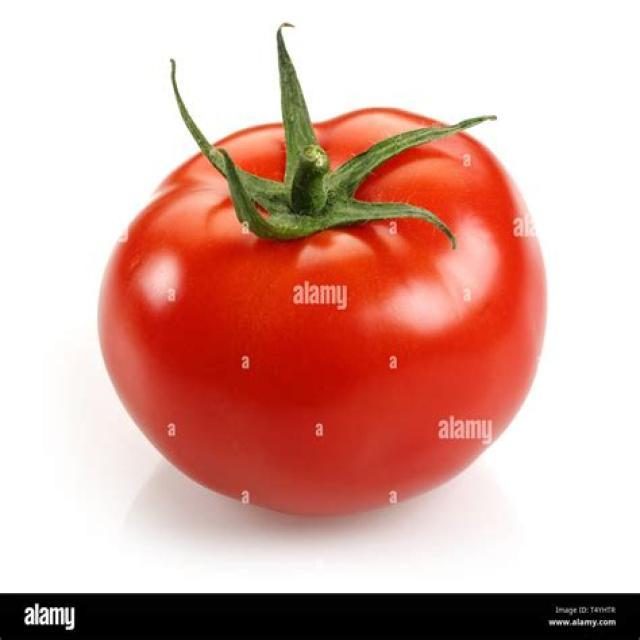Tomato: (96, 46, 550, 520)
